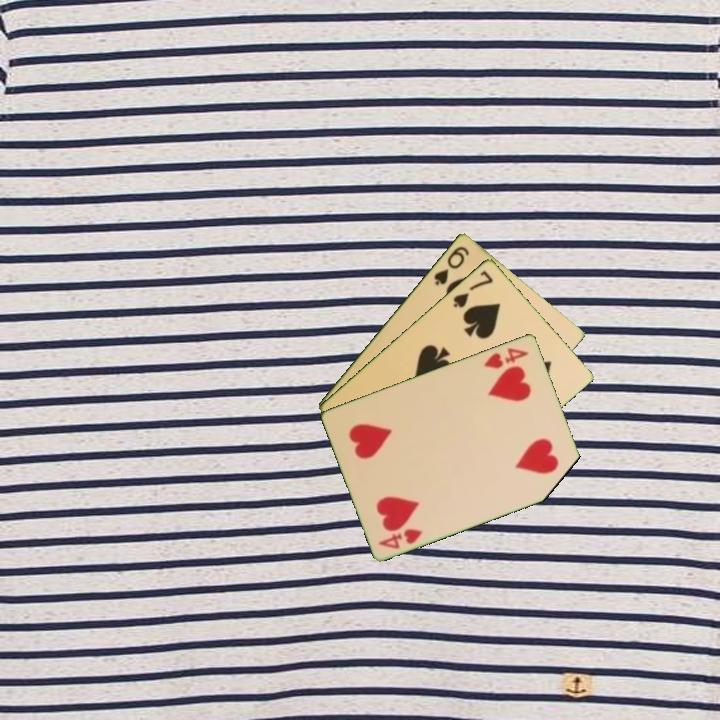4h: (480, 344, 532, 371), (375, 524, 425, 551)
6s: (430, 242, 472, 288)
7s: (449, 266, 496, 311)
